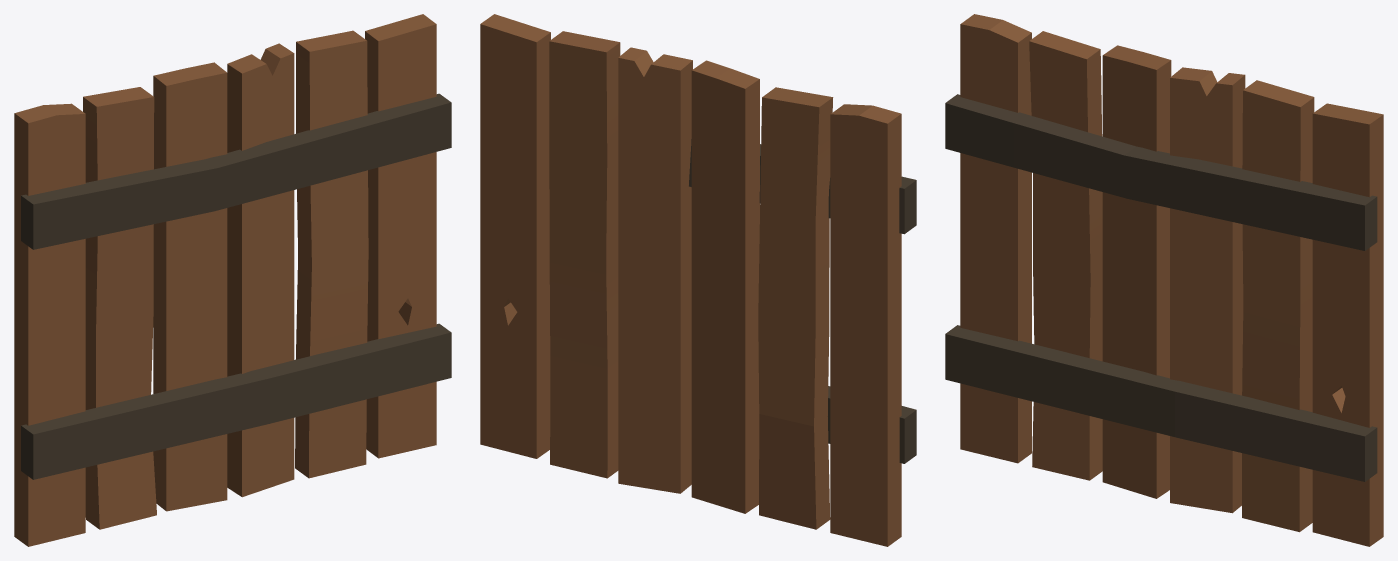
Rendered from Fence_Breakable_A (5).fbx.
3 views of the same model, side by side, from view 1: azimuth 30°, elevation 25°; view 2: azimuth 150°, elevation 25°; view 3: azimuth 330°, elevation 25° (orthographic).
Parts seen in each view (by area): view 1: Fence_Breakable_A (5); view 2: Fence_Breakable_A (5); view 3: Fence_Breakable_A (5).
Part boxes in pixels (x1,y1,x2,y2): Fence_Breakable_A (5): (14,14,451,546); Fence_Breakable_A (5): (480,14,916,546); Fence_Breakable_A (5): (945,14,1383,546).
Size of the model in its own units: 4.5 by 4.4 by 0.5767.
